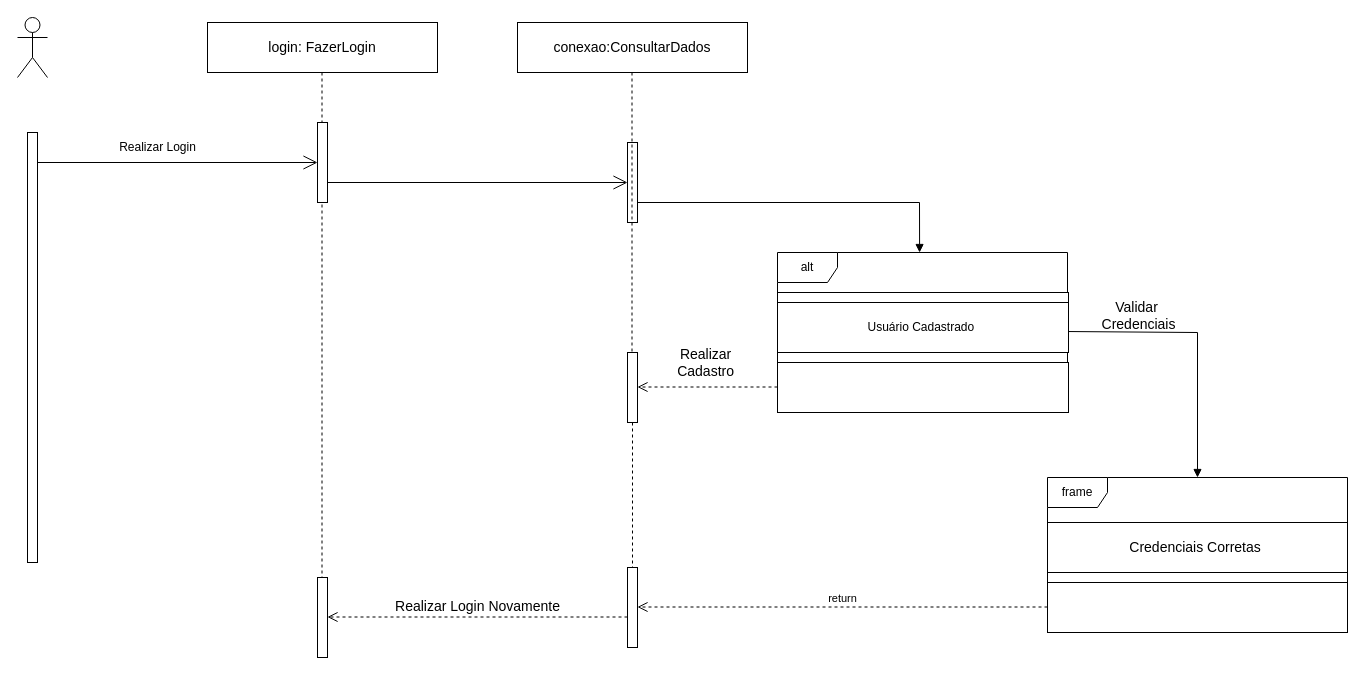
Image size: 1365x675. Some labels were removed from this diagram. The centre of each missing label's shape, as x and y in pixels:
"Actor" goes at point 32,47.
"Credenciais Incorretas" goes at point 1197,607.
"Usuário Não Cadastrado" goes at point 922,387.
